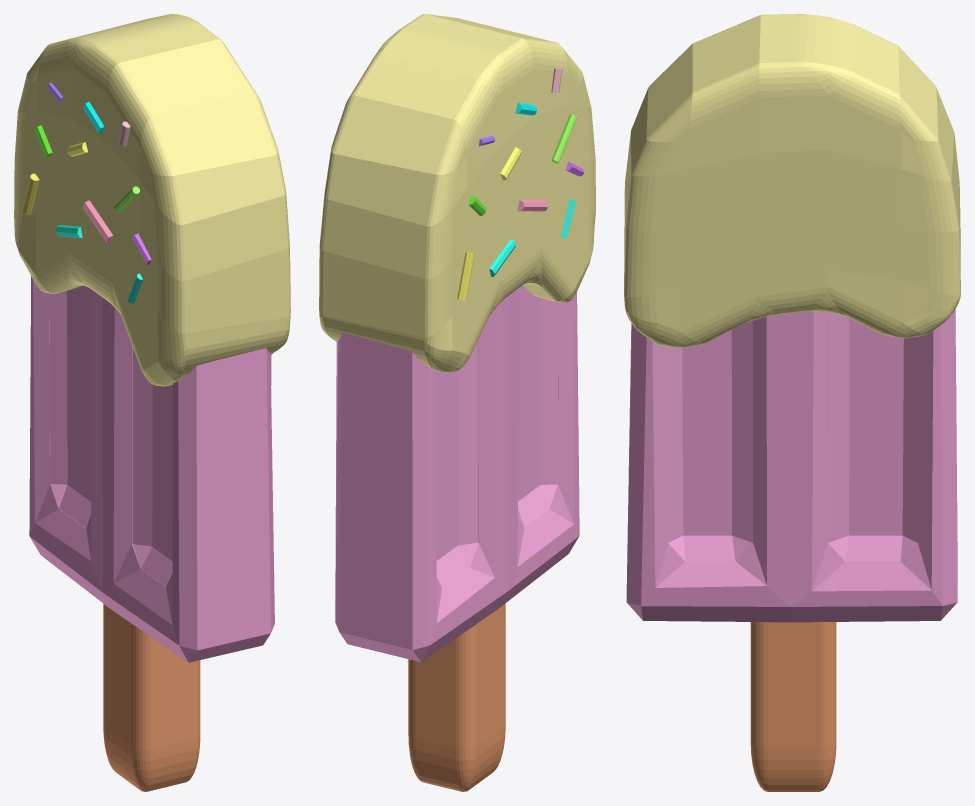
Rendered from ice_pop.glb.
The picture shows the model from 3 angles, left to right: view 1: azimuth 30°, elevation 25°; view 2: azimuth 150°, elevation 25°; view 3: azimuth 270°, elevation 25°; orthographic projection.
Parts seen in each view (by area): view 1: Glaseado, Paleta, Palito; view 2: Glaseado, Paleta, Palito; view 3: Paleta, Glaseado, Palito.
Part boxes in pixels (x1,y1,x2,y2): Glaseado: (14, 14, 290, 386); Paleta: (29, 276, 274, 662); Palito: (103, 604, 200, 791); Glaseado: (319, 14, 595, 373); Paleta: (335, 285, 579, 662); Palito: (408, 603, 505, 791); Paleta: (626, 309, 957, 622); Glaseado: (624, 14, 960, 347); Palito: (750, 622, 836, 791).
Bounding box in the file's own units: 1.46 × 7.74 × 3.18.
